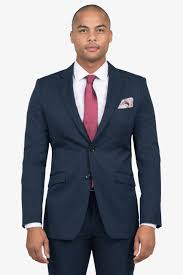F_M_suit jacket: (15, 58, 169, 244)
F_tie: (77, 72, 101, 144)
